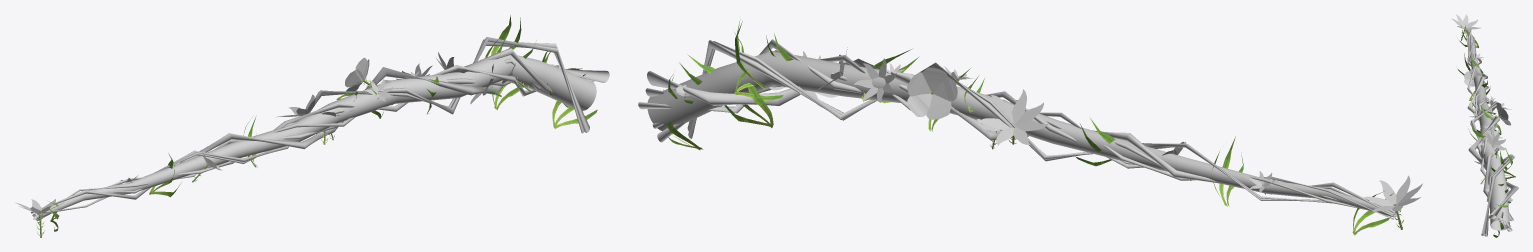
The model's file is vine_v2 1.fbx.
3 renders of one model, left to right at view 1: azimuth 30°, elevation 25°; view 2: azimuth 150°, elevation 25°; view 3: azimuth 270°, elevation 25°, orthographic. The views are drawn at different scales.
Parts seen in each view (by area): view 1: BezierCurve.006; view 2: BezierCurve.006; view 3: BezierCurve.006.
Boxes of the visible parts, box(x1,y1,x2,y2) form: BezierCurve.006: box(15, 15, 609, 237); BezierCurve.006: box(638, 19, 1422, 235); BezierCurve.006: box(1451, 14, 1518, 237).
Size of the model in its own units: 2054 by 392 by 322.
